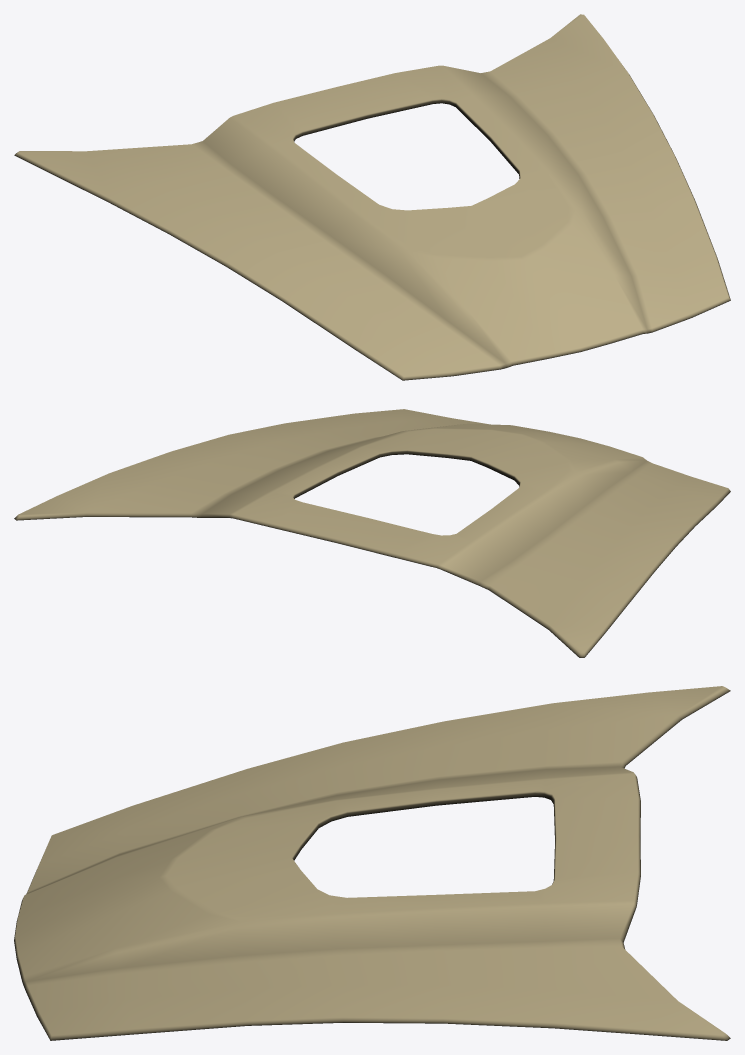
File: Zr1_Hood_02_Duco.fbx
3 renders of one model, top to bottom at view 1: azimuth 30°, elevation 25°; view 2: azimuth 150°, elevation 25°; view 3: azimuth 270°, elevation 25°, orthographic. The views are drawn at different scales.
Visible parts, largest first — view 1: Zr1_Hood_02_Duco; view 2: Zr1_Hood_02_Duco; view 3: Zr1_Hood_02_Duco.
Part boxes in pixels (x1=…): Zr1_Hood_02_Duco: x1=14, y1=14, x2=730, y2=380; Zr1_Hood_02_Duco: x1=14, y1=409, x2=730, y2=657; Zr1_Hood_02_Duco: x1=14, y1=686, x2=730, y2=1040.
Bounding box in the file's own units: 153 × 22.03 × 131.
